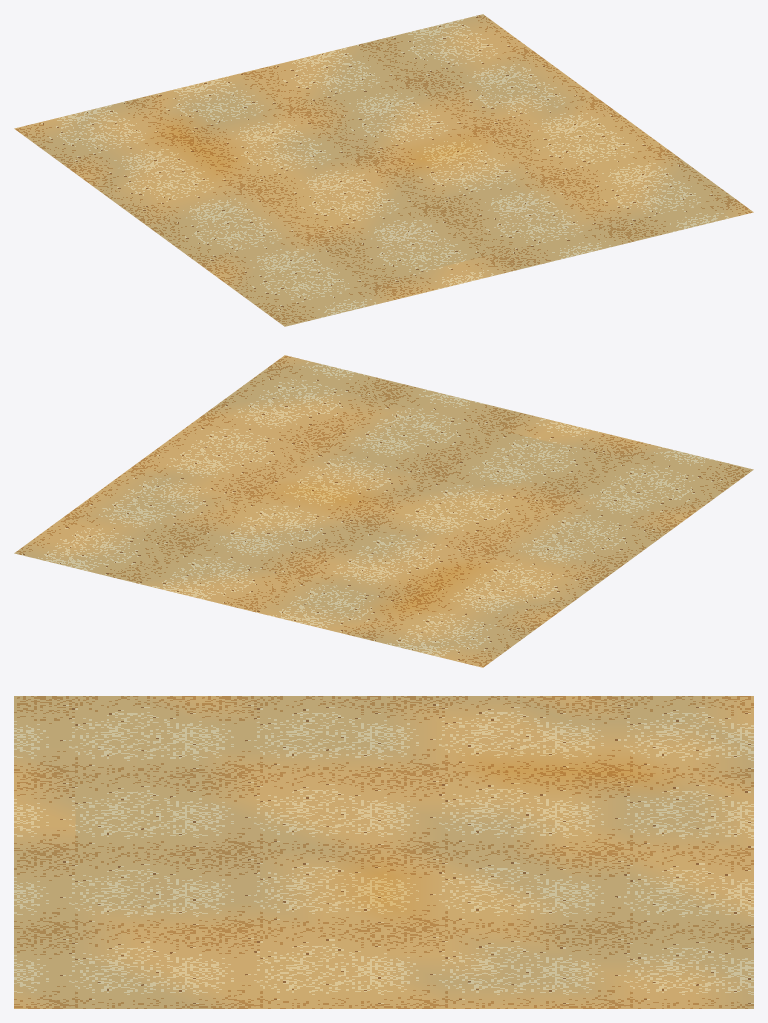
Rendered from wland.ground__desert.glb.
The picture shows the model from 3 angles, top to bottom: view 1: azimuth 30°, elevation 25°; view 2: azimuth 150°, elevation 25°; view 3: azimuth 270°, elevation 25°; orthographic projection. The views are drawn at different scales.
Parts seen in each view (by area): view 1: kit_shell_ground; view 2: kit_shell_ground; view 3: kit_shell_ground.
Part boxes in pixels (bbox=[...]): kit_shell_ground: bbox=[14, 14, 753, 326]; kit_shell_ground: bbox=[14, 355, 753, 667]; kit_shell_ground: bbox=[14, 696, 753, 1008].
Size of the model in its own units: 24 by 0.1265 by 24.
Materials: 1 (1 with a texture image).
